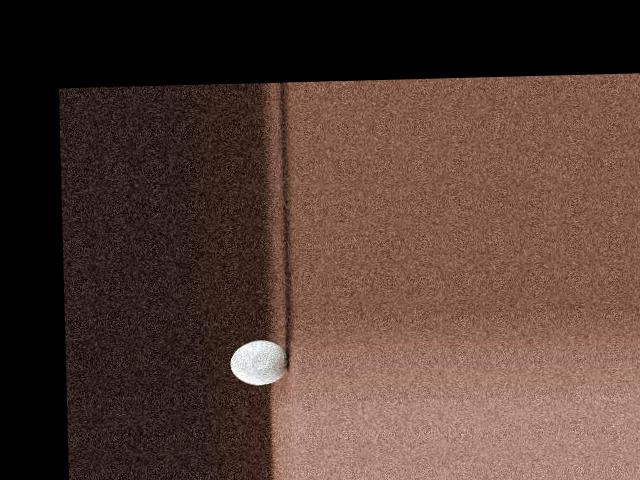egg: (229, 340, 288, 385)
